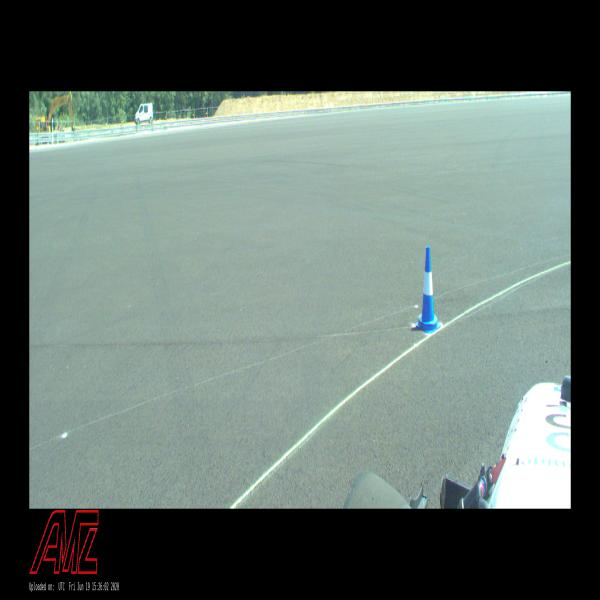blue_cone: (415, 246, 441, 333)
